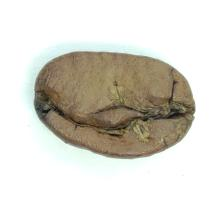NG: (33, 62, 185, 143)
